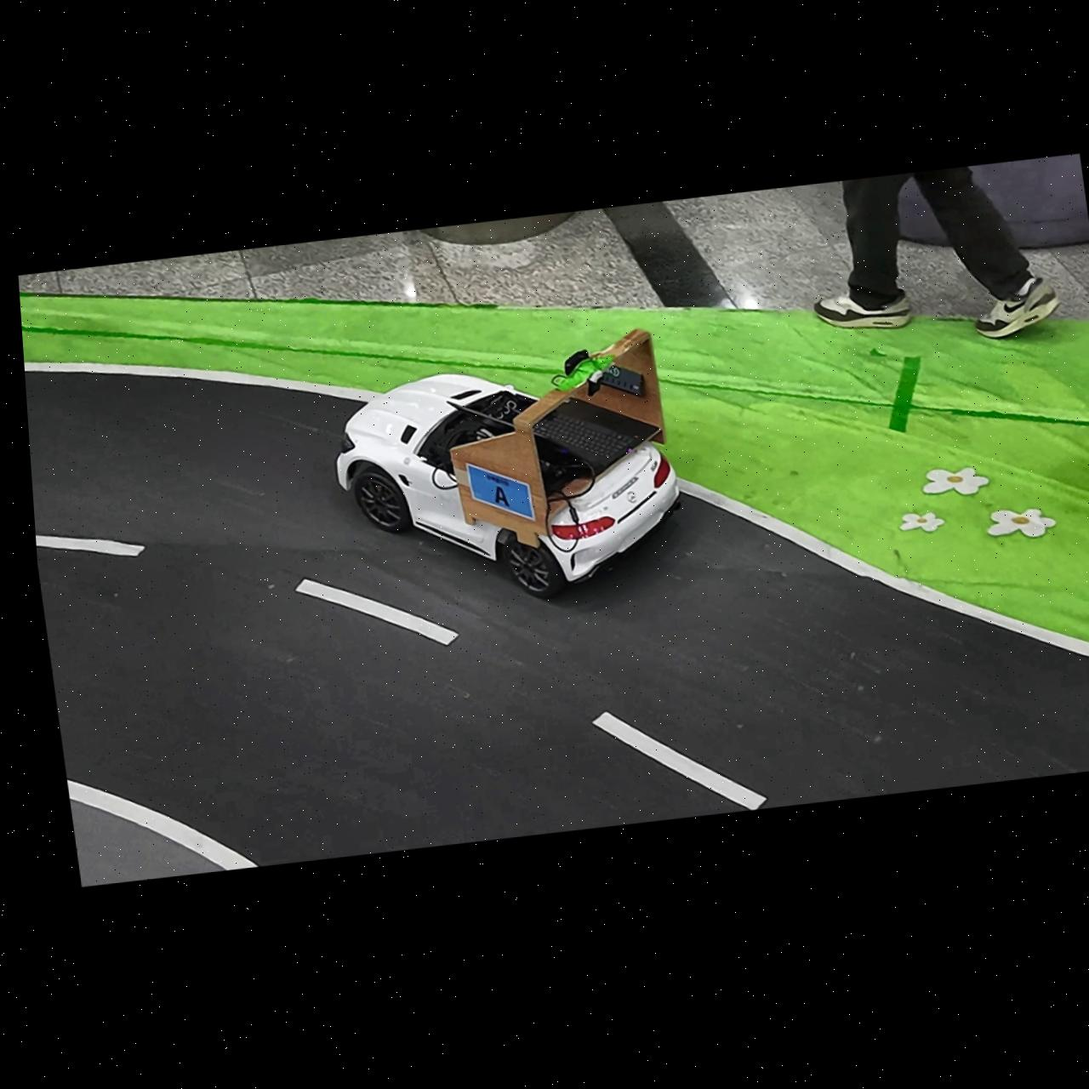broken_line: (593, 711, 767, 810), (295, 579, 460, 645), (36, 535, 145, 556)
